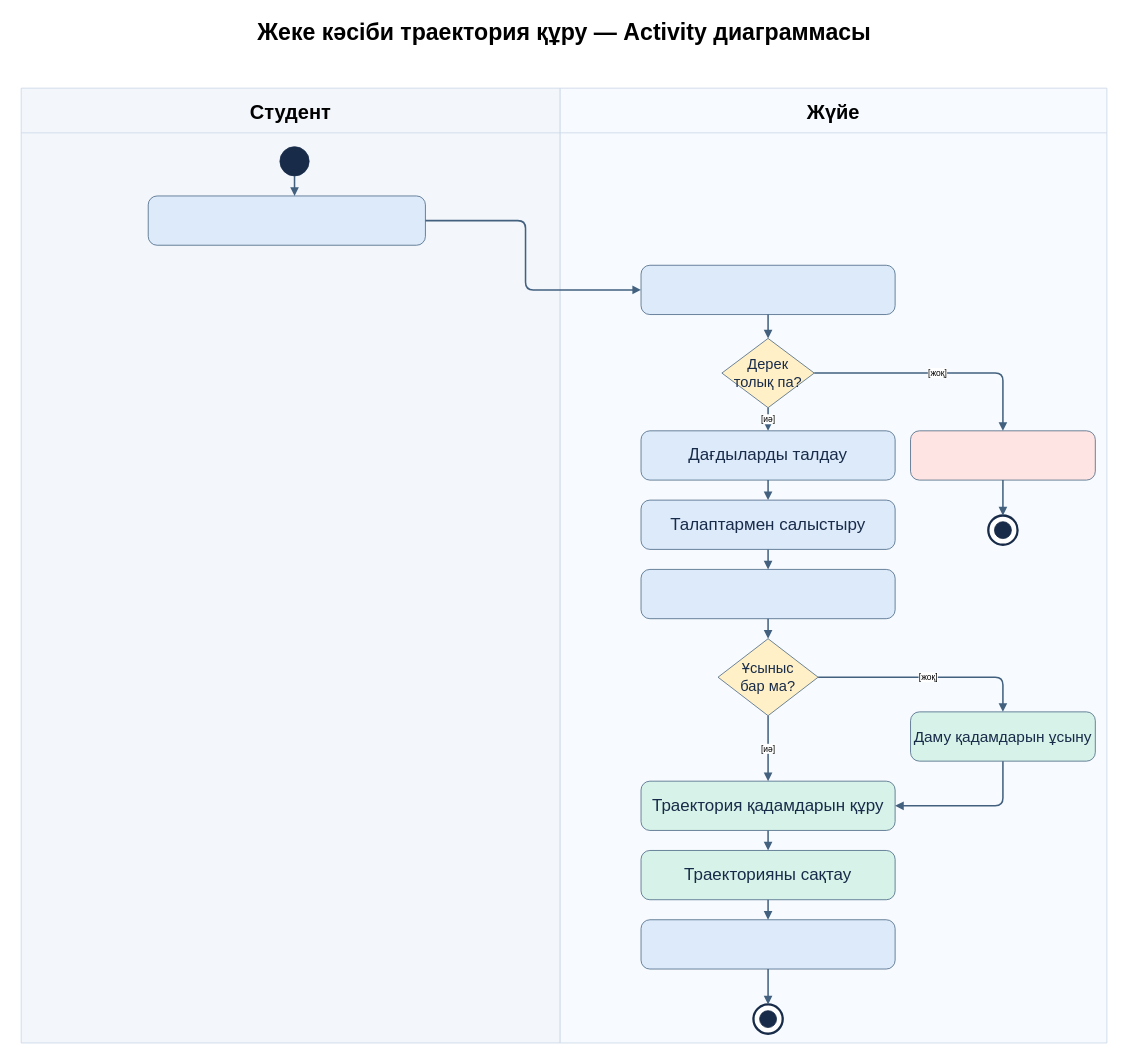
Image size: 1127x1056. Some labels were removed from this diagram. Each missing label, with the centre of its shape:
Нәтижені көрсету: the point at 767,944
Профиль мен мақсатты енгізу: the point at 286,220
Профильді тексеру: the point at 767,289
Стажировкаларды іріктеу: the point at 767,594
Толықтыруды сұрау: the point at 1002,455
